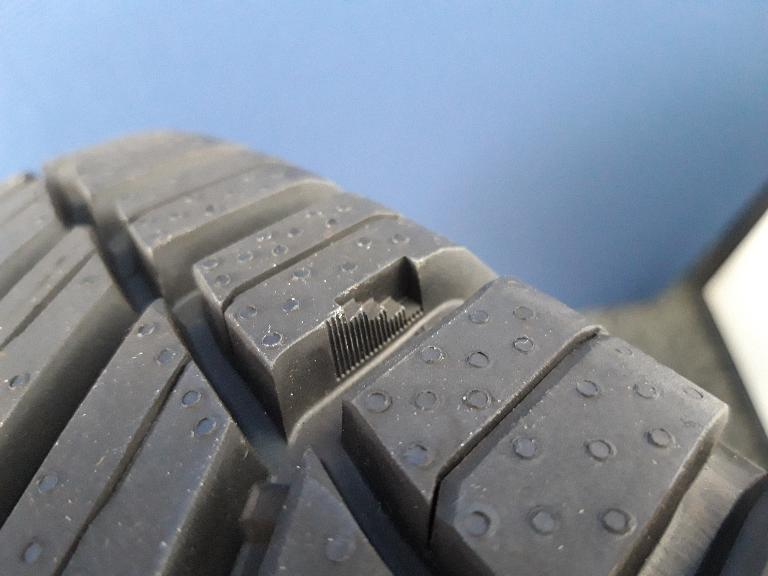temoin:100: (318, 247, 435, 388)
